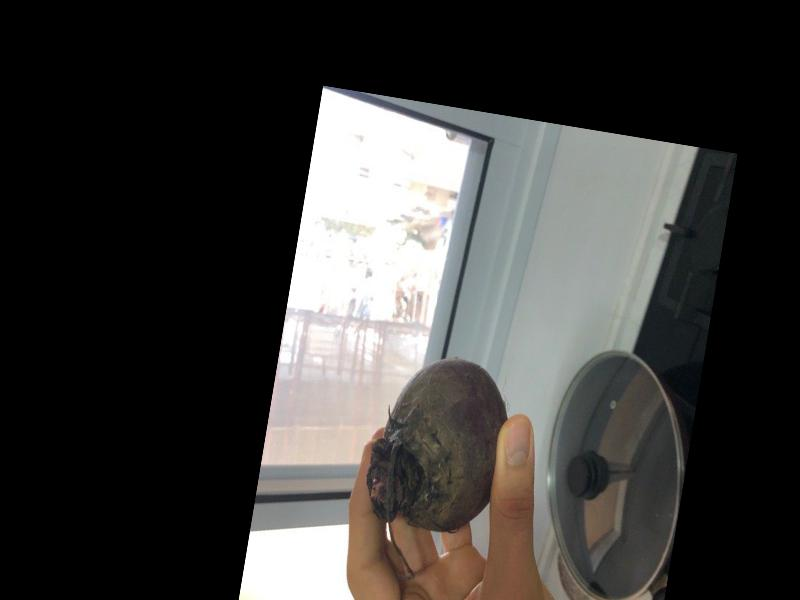Beet: (351, 346, 517, 590)
